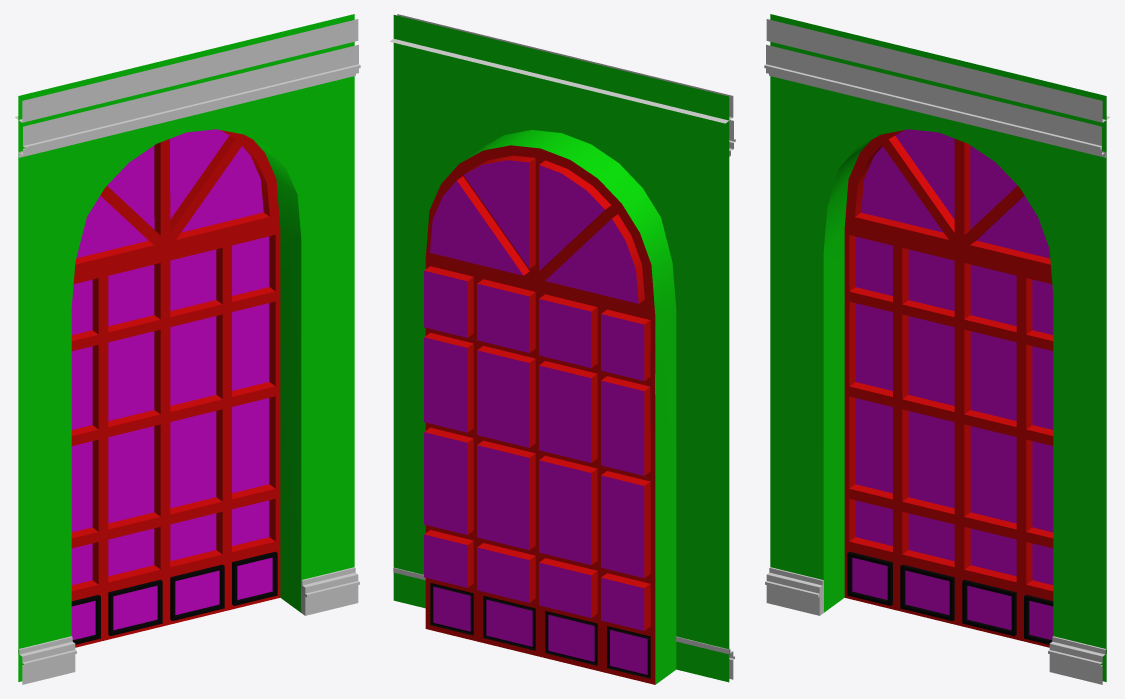
The model's file is Window01_low.fbx.
3 views of the same model, side by side, from view 1: azimuth 30°, elevation 25°; view 2: azimuth 150°, elevation 25°; view 3: azimuth 330°, elevation 25° (orthographic).
Visible parts, largest first — view 1: pCube38, Bottumtrim7, pCube39, polySurface21, polySurface22; view 2: pCube38, pCube39; view 3: pCube38, Bottumtrim7, pCube39, polySurface22, polySurface21.
Part boxes in pixels (bbox=[...]): pCube38: bbox=[18, 14, 354, 681]; Bottumtrim7: bbox=[18, 44, 360, 157]; pCube39: bbox=[15, 19, 358, 122]; polySurface21: bbox=[301, 567, 359, 615]; polySurface22: bbox=[18, 636, 76, 684]; pCube38: bbox=[393, 15, 729, 684]; pCube39: bbox=[390, 14, 733, 123]; pCube38: bbox=[770, 14, 1106, 681]; Bottumtrim7: bbox=[764, 44, 1106, 157]; pCube39: bbox=[766, 19, 1109, 122]; polySurface22: bbox=[765, 567, 823, 615]; polySurface21: bbox=[1048, 636, 1106, 684].
Size of the model in its own units: 56.37 by 93.96 by 9.67.
